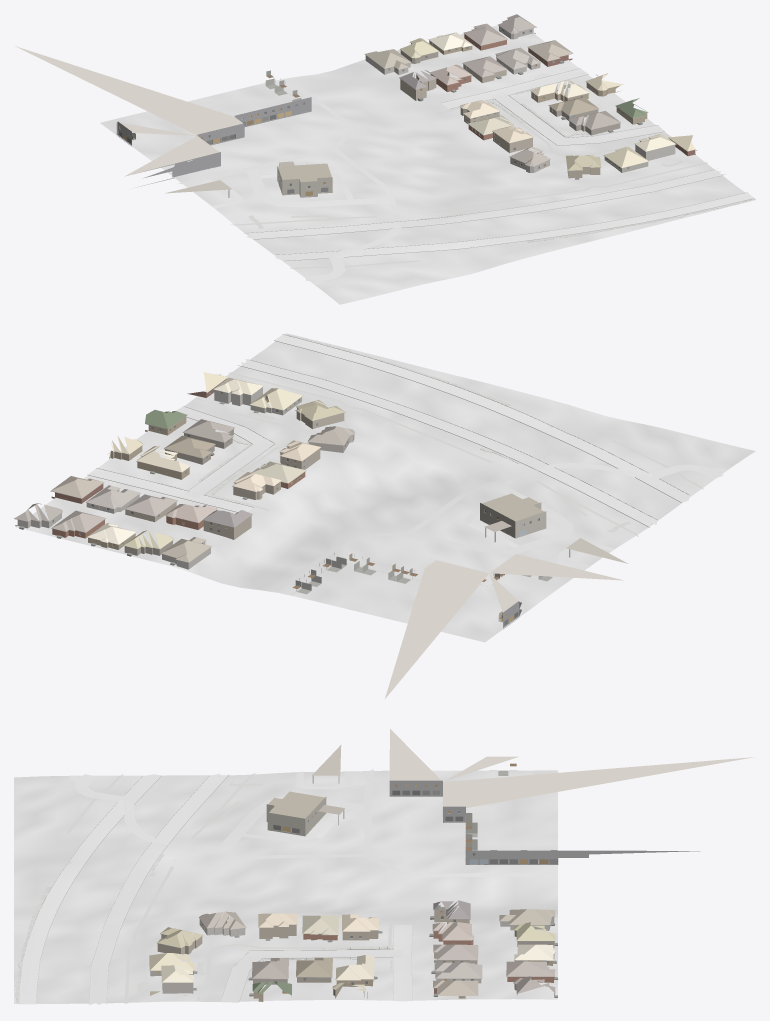
The picture shows the model from 3 angles, top to bottom: view 1: azimuth 30°, elevation 25°; view 2: azimuth 150°, elevation 25°; view 3: azimuth 270°, elevation 25°; orthographic projection. The views are drawn at different scales.
Parts seen in each view (by area): view 1: ground, roof, asphalt, concrete, roof_flat, wall, wall_com, curb, walk, detail, wall_stone, glass; view 2: ground, roof, asphalt, roof_flat, concrete, wall, walk, curb, wall_stone, detail, wall_com, room; view 3: ground, roof, asphalt, roof_flat, concrete, wall_com, wall, walk, curb, detail, wall_stone, glass (+2 smaller).
Part boxes in pixels (left/top/right/bottom): ground: left=100, top=25, right=755, bottom=304; roof: left=365, top=14, right=695, bottom=170; asphalt: left=245, top=170, right=753, bottom=260; concrete: left=178, top=68, right=664, bottom=284; roof_flat: left=15, top=46, right=331, bottom=193; wall: left=400, top=28, right=695, bottom=178; wall_com: left=116, top=97, right=332, bottom=197; curb: left=244, top=68, right=755, bottom=261; walk: left=230, top=89, right=755, bottom=268; detail: left=118, top=18, right=696, bottom=196; wall_stone: left=365, top=26, right=675, bottom=172; glass: left=118, top=29, right=672, bottom=193; ground: left=16, top=333, right=755, bottom=642; roof: left=14, top=372, right=354, bottom=562; asphalt: left=241, top=334, right=689, bottom=526; roof_flat: left=384, top=493, right=628, bottom=699; concrete: left=88, top=406, right=725, bottom=591; wall: left=51, top=379, right=344, bottom=555; walk: left=161, top=333, right=703, bottom=536; curb: left=87, top=334, right=689, bottom=527; wall_stone: left=15, top=387, right=354, bottom=569; detail: left=14, top=374, right=539, bottom=626; wall_com: left=480, top=502, right=570, bottom=629; room: left=100, top=395, right=552, bottom=622; ground: left=14, top=770, right=557, bottom=1003; roof: left=149, top=900, right=555, bottom=998; asphalt: left=19, top=773, right=227, bottom=1004; roof_flat: left=268, top=729, right=754, bottom=818; concrete: left=70, top=769, right=555, bottom=1002; wall_com: left=266, top=775, right=700, bottom=864; wall: left=157, top=909, right=554, bottom=1001; walk: left=15, top=773, right=393, bottom=1003; curb: left=18, top=775, right=412, bottom=1004; detail: left=150, top=770, right=558, bottom=997; wall_stone: left=162, top=917, right=554, bottom=994; glass: left=202, top=790, right=557, bottom=984.
Size of the model in its own units: 287 by 14.24 by 341.
